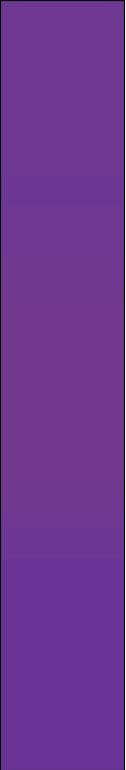safe: (10, 6, 110, 761)
